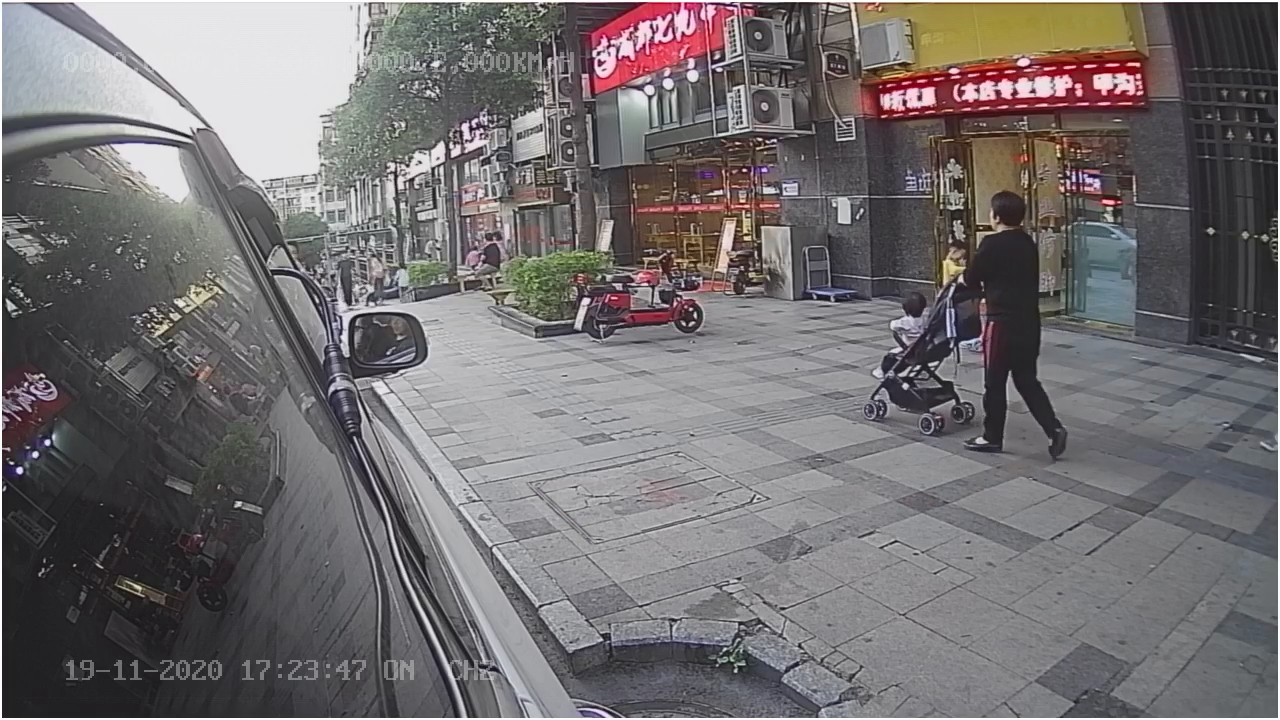person: (950, 186, 1073, 465)
